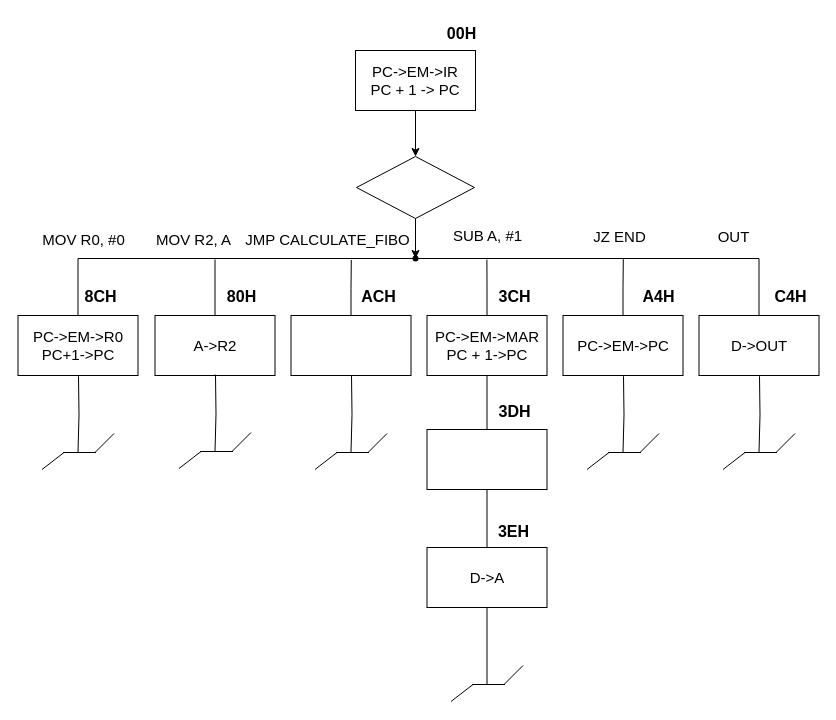
This 836x720 diagram has some shape labels left out. Each missing label, with the centre of its shape:
"IR->PC" goes at point (350, 345).
"MAR->EM->W" goes at point (486, 459).
"操作码测试" goes at point (415, 187).
